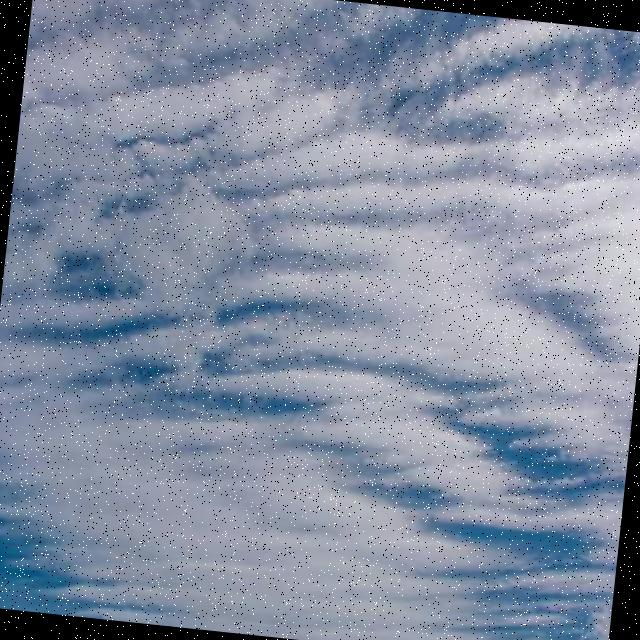Cc: (1, 1, 640, 572)
